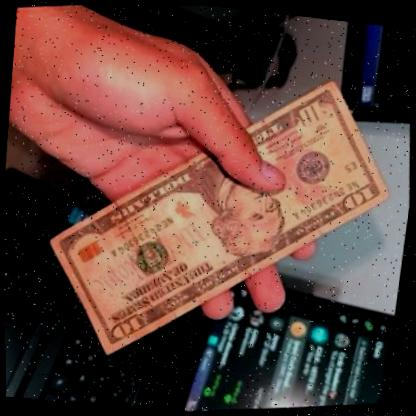ten-front: (8, 37, 416, 396)
